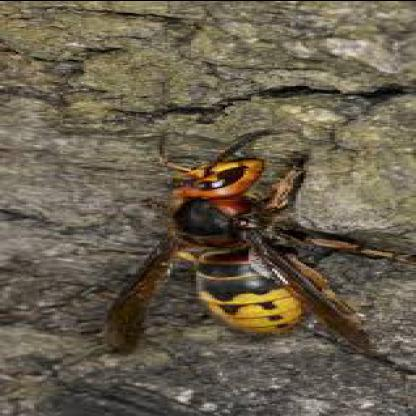european: (97, 127, 405, 349)
